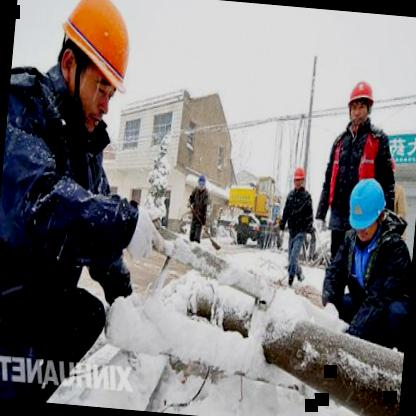helmet: (46, 0, 144, 135), (343, 173, 388, 241), (344, 75, 378, 131), (290, 165, 308, 194)
